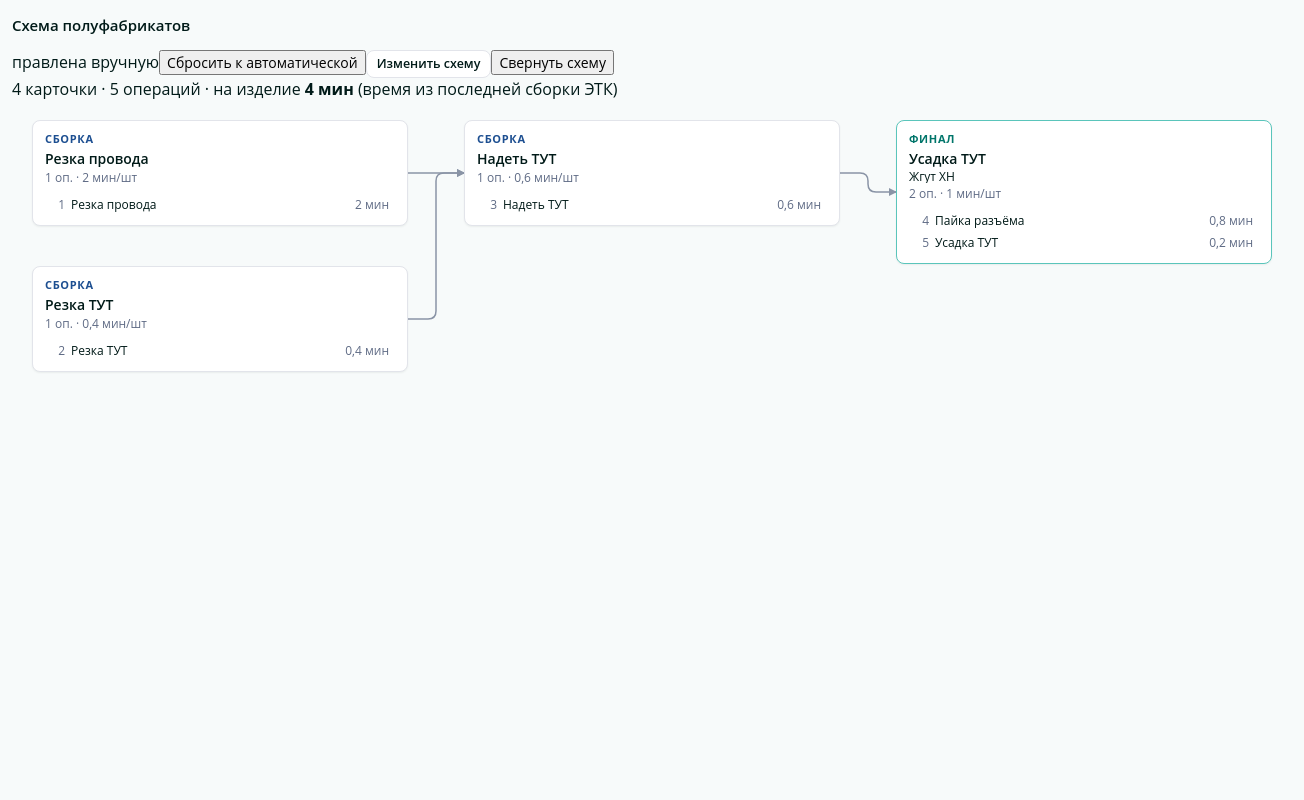
refuses an edit that leaves a block without a way to the product and says why
Click the button "3 Надеть ТУТ 0,6 мин".
click(536, 204)  # box x1=471 y1=193 x2=833 y2=215
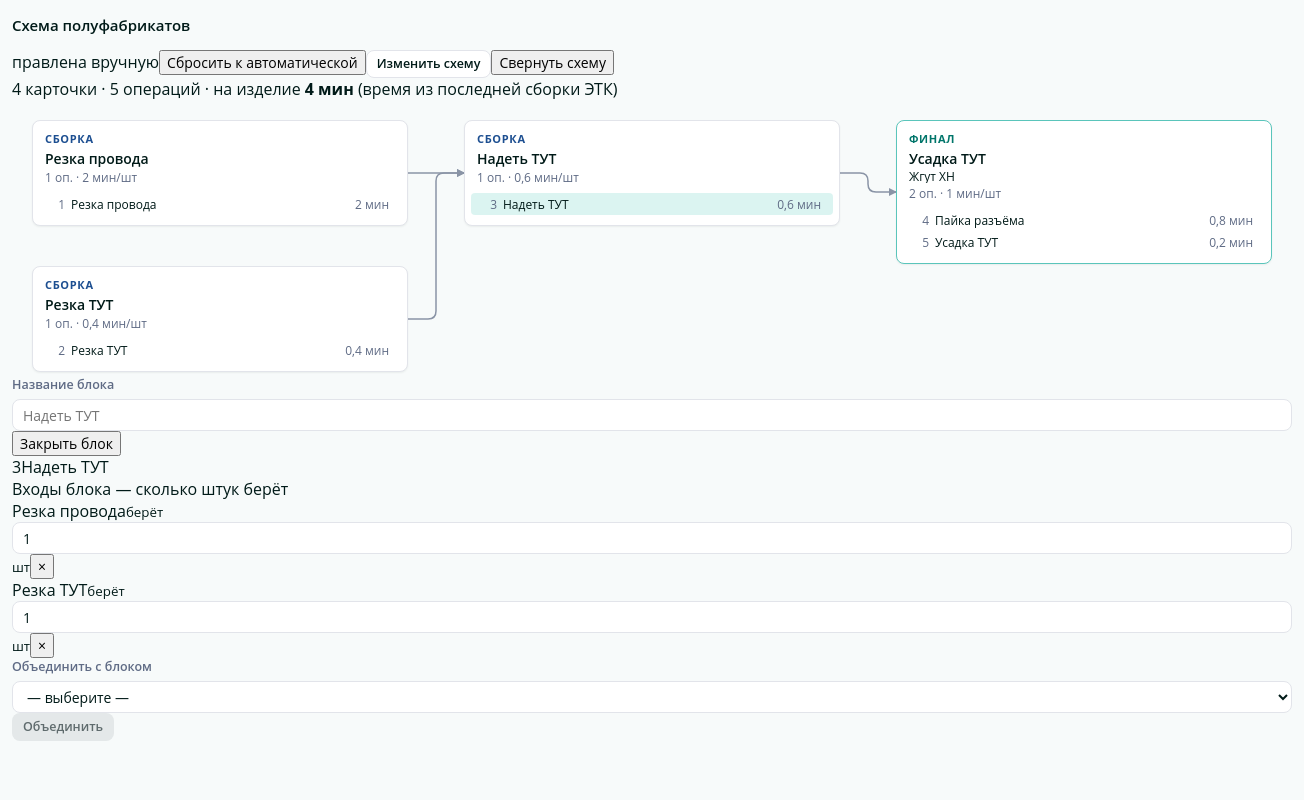
Click the button named "Убрать вход «Резка ТУТ»".
click(42, 646)  # box x1=30 y1=633 x2=54 y2=658
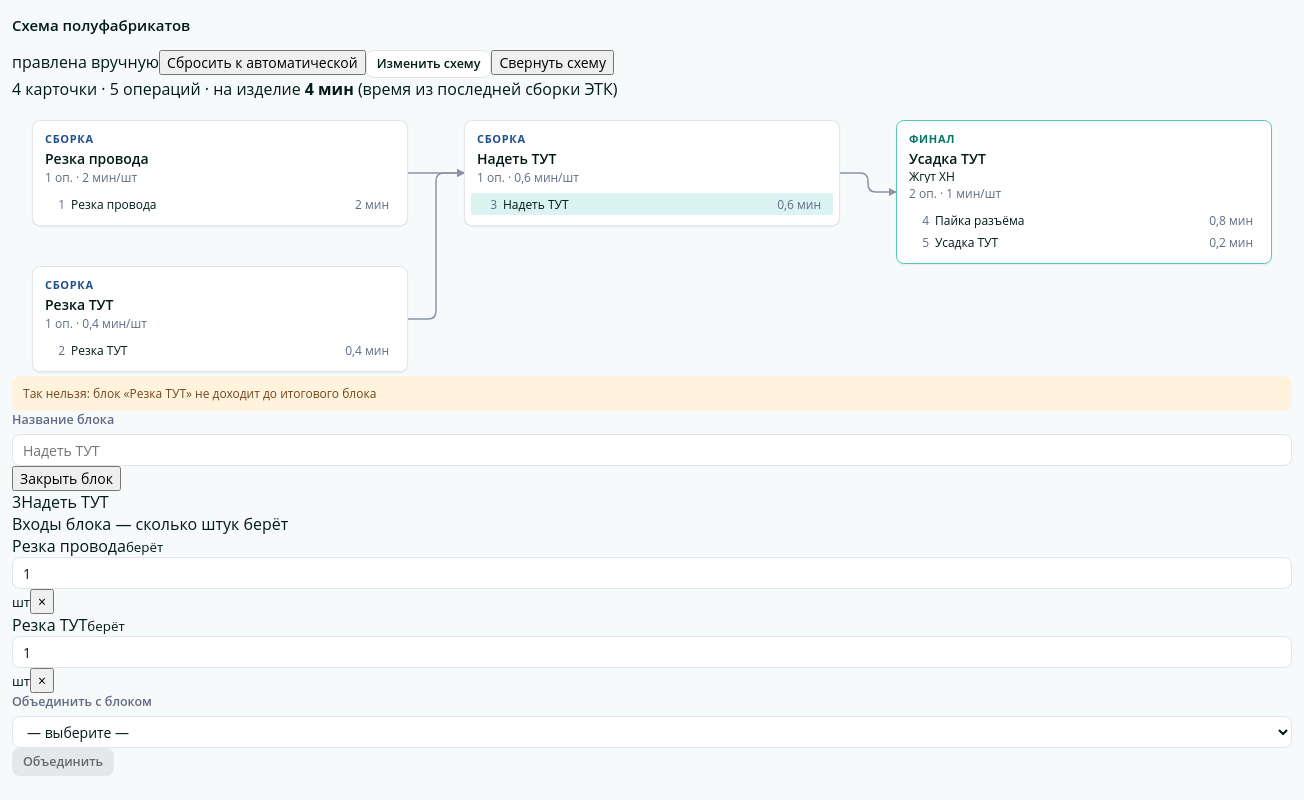
Check: the message reads "Так нельзя: блок «Резка ТУТ» не доходит до итогового блока", box x1=23 y1=385 x2=376 y2=402
